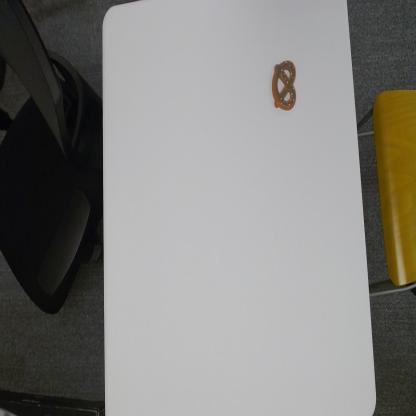Pretzel: (270, 59, 298, 113)
